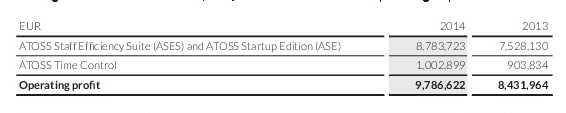table: (0, 0, 566, 113)
